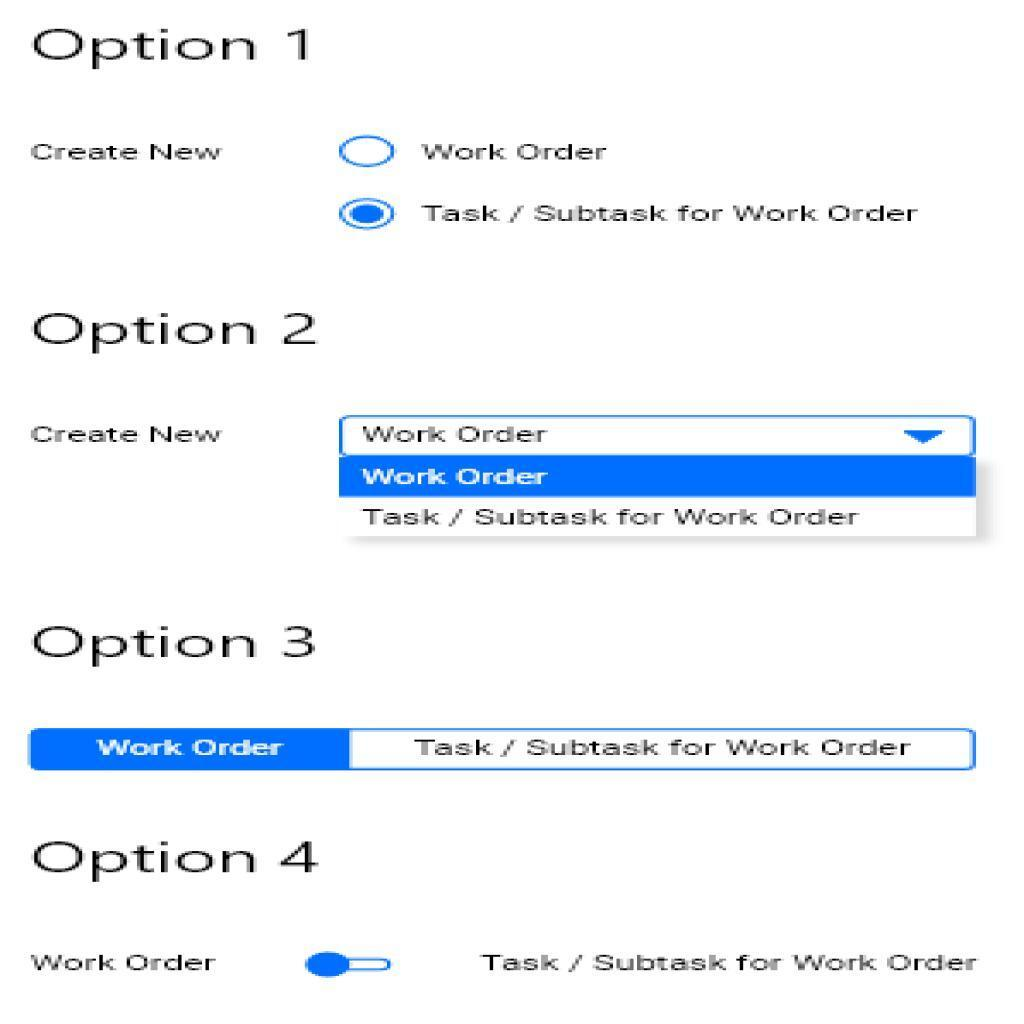button: (351, 728, 975, 771), (340, 456, 977, 498), (342, 496, 977, 538), (31, 730, 350, 772)
dropdown: (341, 418, 977, 458)
label: (477, 945, 986, 978), (28, 834, 329, 889), (421, 198, 925, 230), (31, 22, 322, 76), (32, 305, 321, 357), (32, 621, 323, 670), (31, 421, 224, 456), (30, 948, 227, 979), (21, 140, 225, 168), (424, 138, 611, 164)
radio: (338, 196, 397, 231), (340, 134, 395, 168)
switch: (305, 951, 396, 979)
